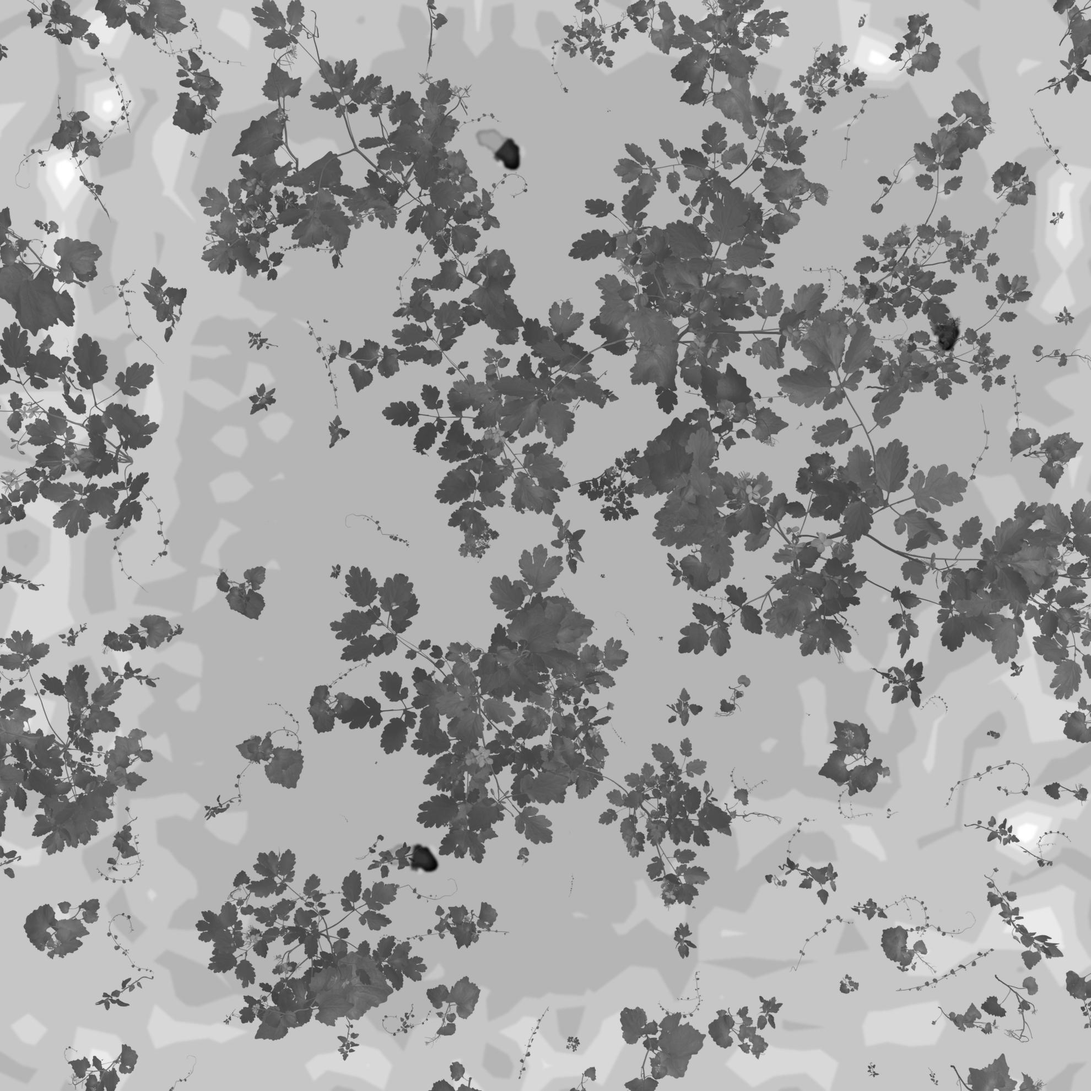landmine: (473, 124, 523, 173), (380, 839, 440, 877), (922, 295, 960, 355)
